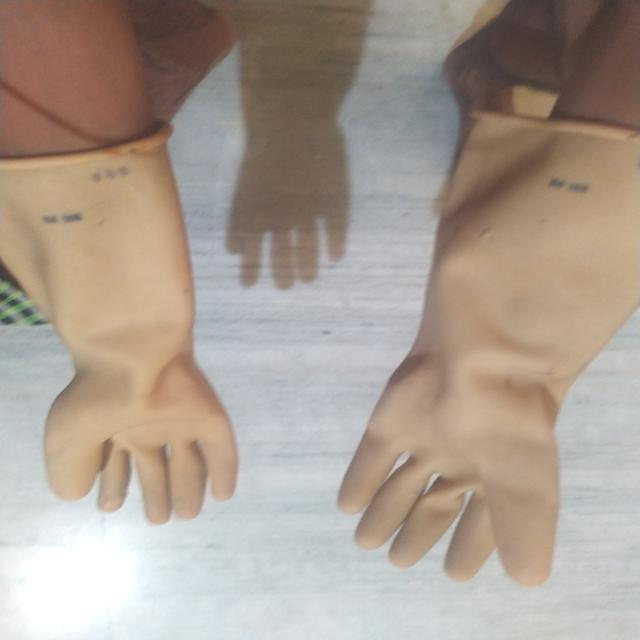glove: (330, 108, 640, 593), (0, 123, 242, 532)
